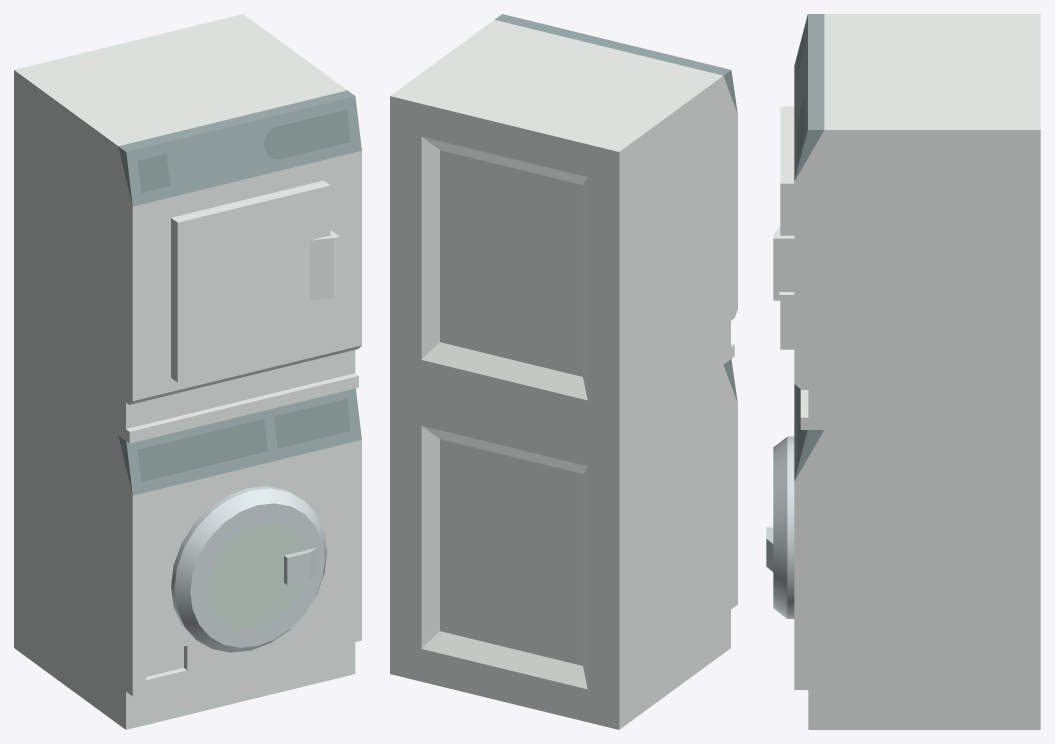
Rendered from washerDryerStacked.glb.
The picture shows the model from 3 angles, left to right: view 1: azimuth 30°, elevation 25°; view 2: azimuth 150°, elevation 25°; view 3: azimuth 270°, elevation 25°; orthographic projection. The views are drawn at different scales.
Visible parts, largest first — view 1: washerDryerStacked(Clone), dryerDoor, washerDoor; view 2: washerDryerStacked(Clone); view 3: washerDryerStacked(Clone), washerDoor, dryerDoor.
Part boxes in pixels (x1=…): washerDryerStacked(Clone): x1=14, y1=14, x2=361, y2=729; dryerDoor: x1=171, y1=180, x2=339, y2=382; washerDoor: x1=171, y1=486, x2=326, y2=652; washerDryerStacked(Clone): x1=390, y1=14, x2=737, y2=729; washerDryerStacked(Clone): x1=794, y1=14, x2=1040, y2=729; washerDoor: x1=766, y1=436, x2=794, y2=618; dryerDoor: x1=773, y1=106, x2=794, y2=349.
Size of the model in its own units: 0.7917 by 1.91 by 0.7917.
6 materials, 6 textured.
